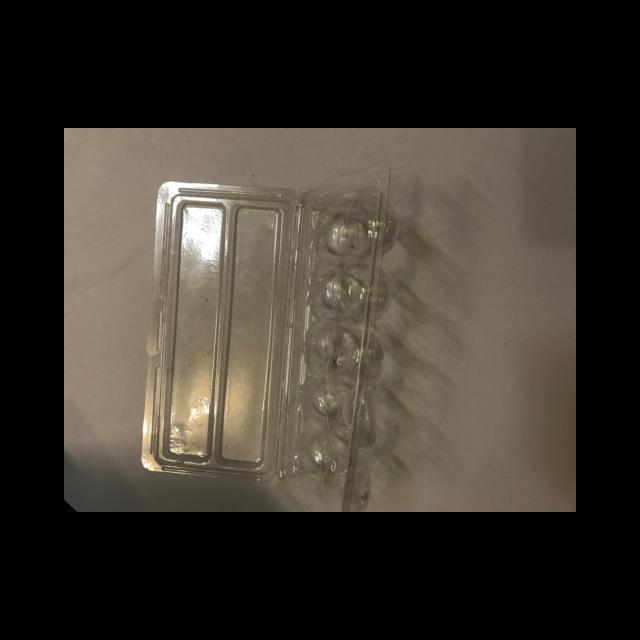plastic: (138, 163, 394, 511), (140, 178, 298, 487)
